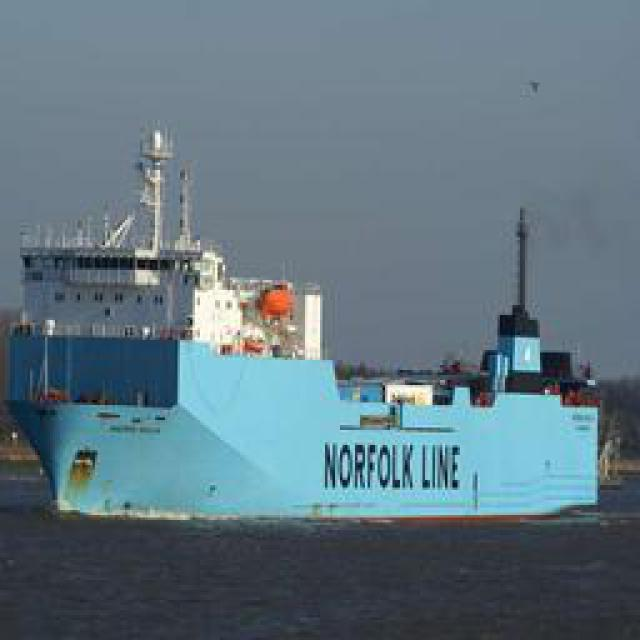Ship: (7, 110, 620, 538)
